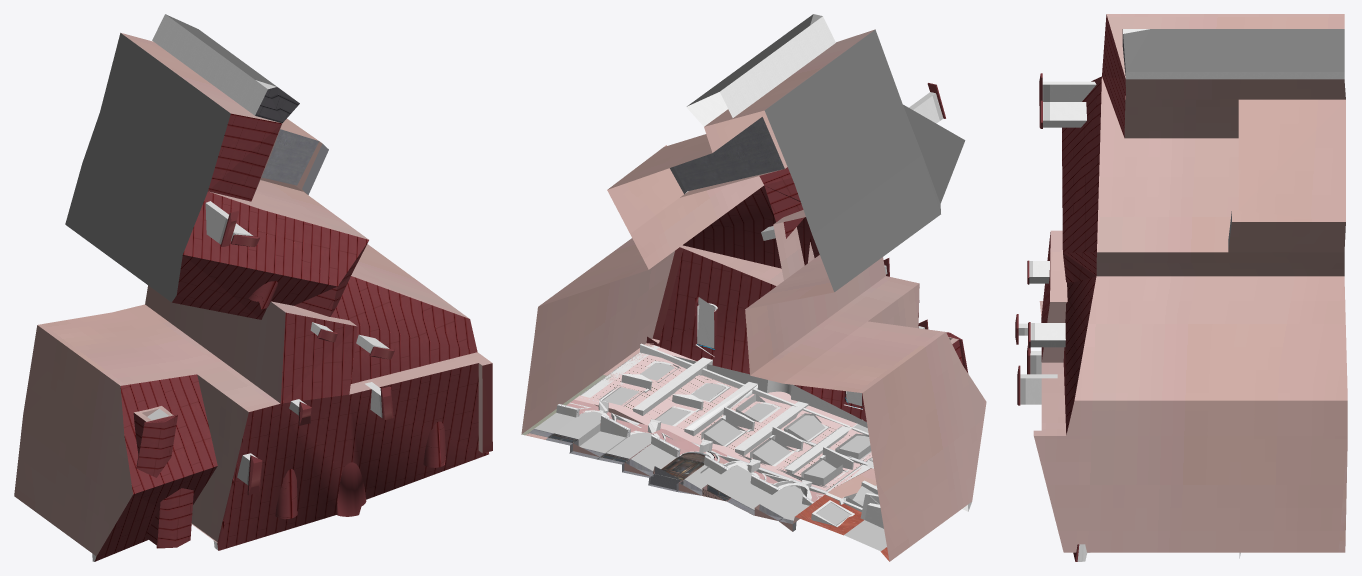
The model's file is Kuninga_4-origo.obj.
The picture shows the model from 3 angles, left to right: view 1: azimuth 30°, elevation 25°; view 2: azimuth 150°, elevation 25°; view 3: azimuth 270°, elevation 25°; orthographic projection. The views are drawn at different scales.
Parts seen in each view (by area): view 1: Kuninga_4; view 2: Kuninga_4; view 3: Kuninga_4.
Boxes of the visible parts, x1,y1,x2,y2 form: Kuninga_4: (14, 14, 492, 561); Kuninga_4: (521, 14, 986, 561); Kuninga_4: (1015, 14, 1347, 561).
Bounding box in the file's own units: 24.12 × 28.5 × 17.95.
